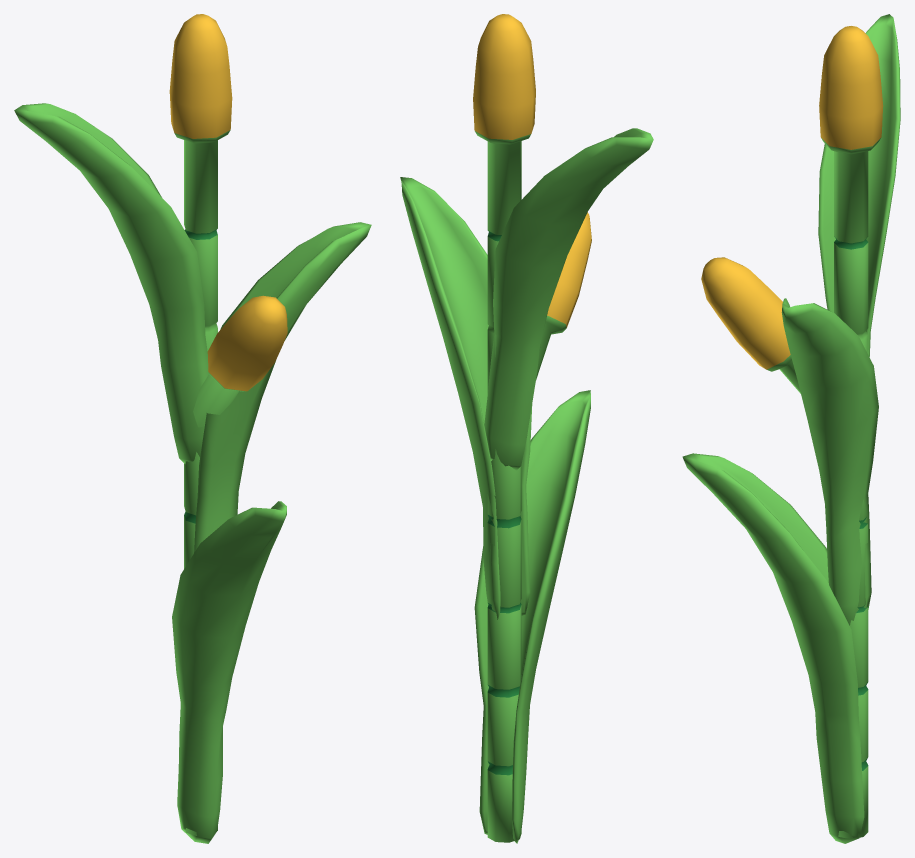
File: CornBig_single.fbx
The picture shows the model from 3 angles, left to right: view 1: azimuth 30°, elevation 25°; view 2: azimuth 150°, elevation 25°; view 3: azimuth 270°, elevation 25°; orthographic projection.
Visible parts, largest first — view 1: CornBig_single; view 2: CornBig_single; view 3: CornBig_single.
Boxes of the visible parts, box(x1,y1,x2,y2) form: CornBig_single: box(14, 14, 371, 843); CornBig_single: box(400, 14, 653, 843); CornBig_single: box(682, 14, 900, 843).
Bounding box in the file's own units: 55.49 × 143 × 34.82.
